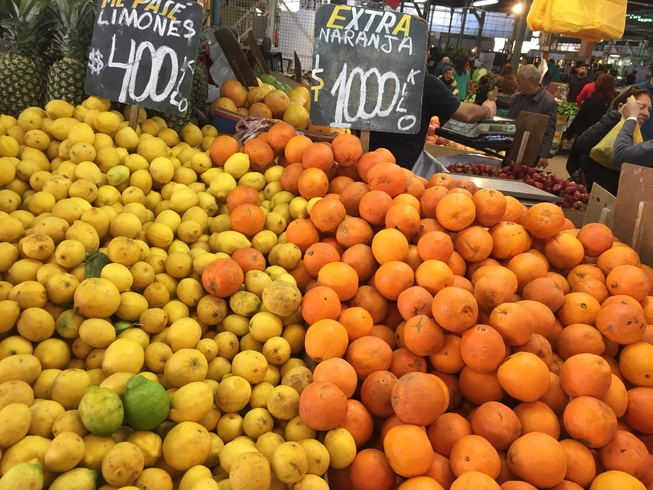precio: (309, 1, 423, 135), (78, 1, 194, 118)
